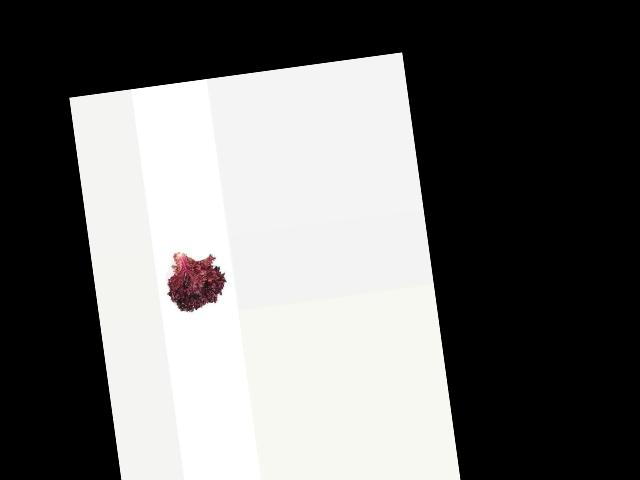lettuce: (164, 240, 231, 317)
